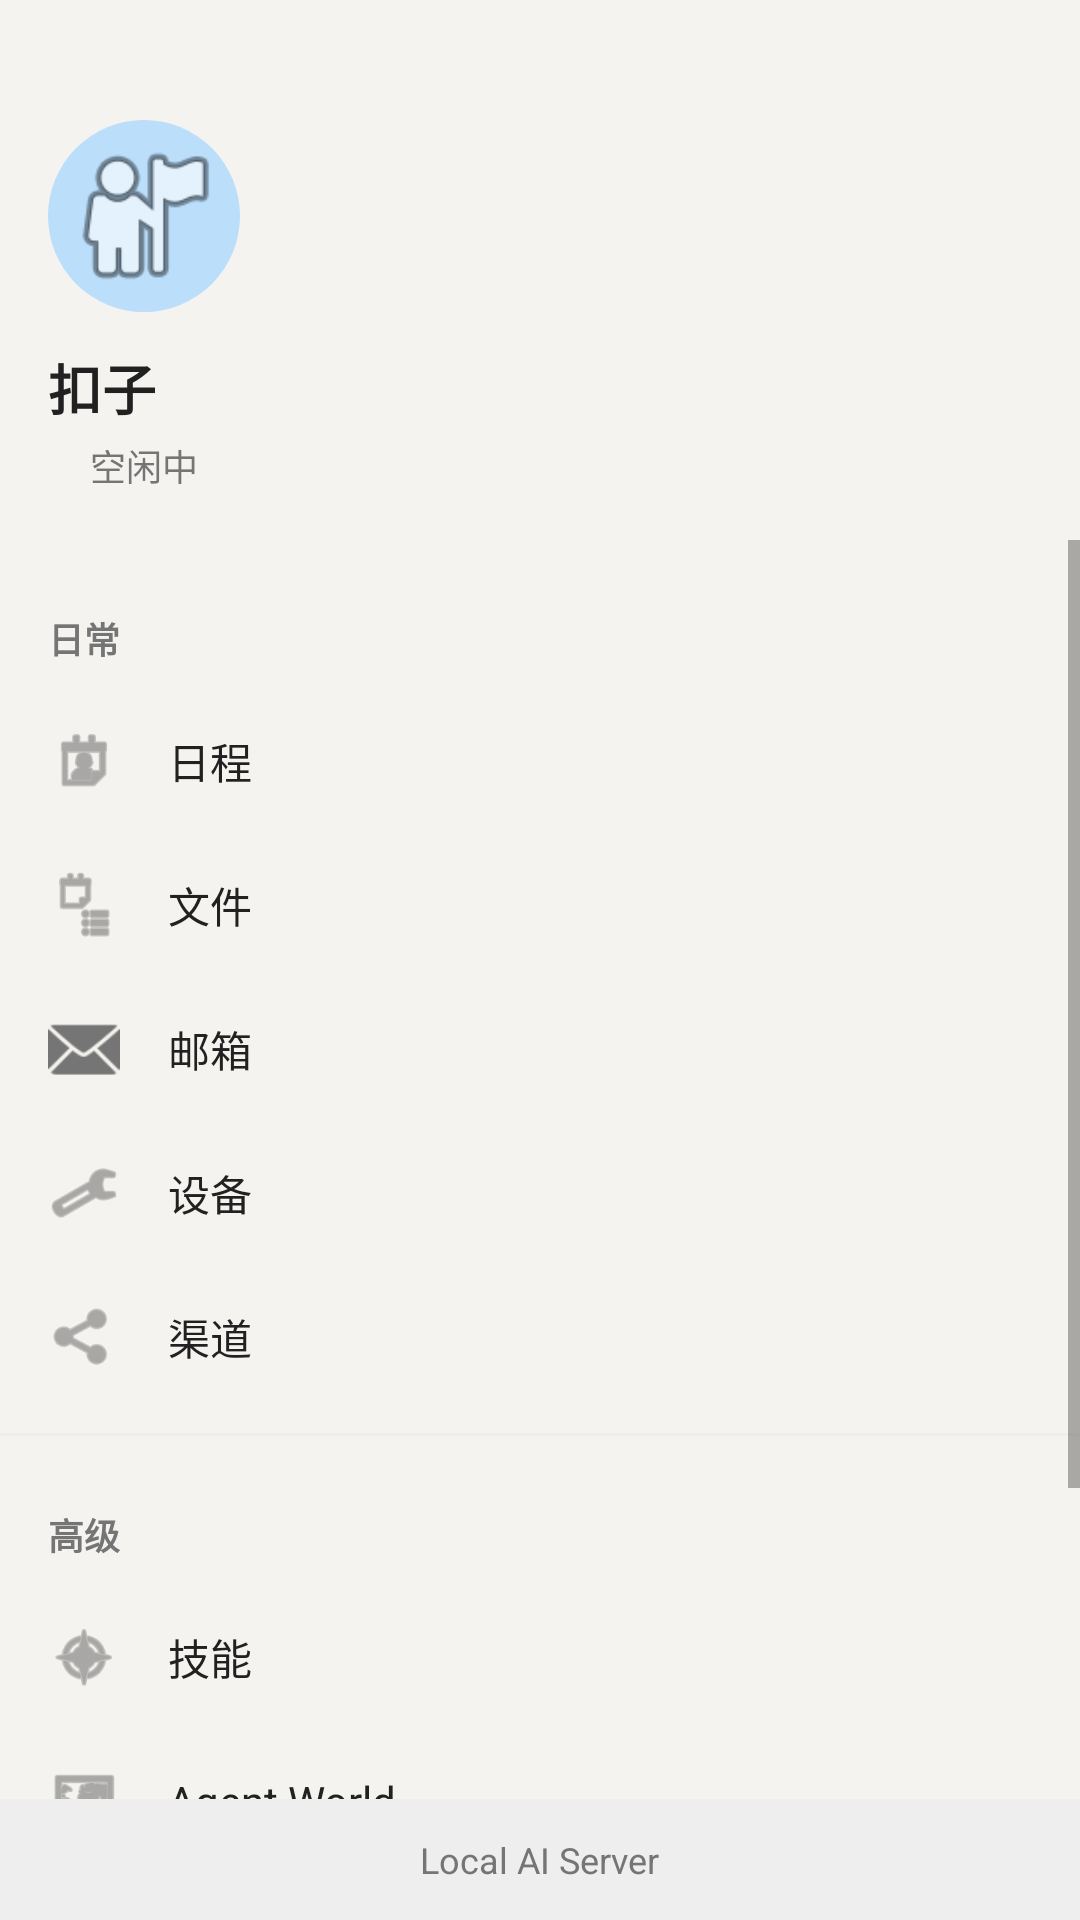

Locate icon controls on the screen. Image size 1080px x 1920px, boxes as [x1, y1, x2, y2].
agenda: [59, 873, 110, 936]
calendar: [61, 734, 107, 786]
email: [48, 1024, 120, 1075]
manage: [52, 1168, 116, 1218]
share: [53, 1309, 107, 1365]
